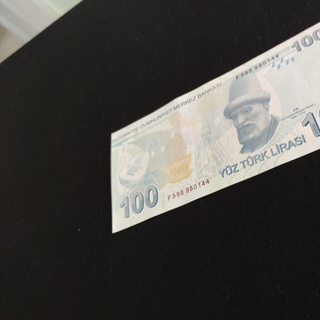100TLBack: (110, 16, 320, 233)
